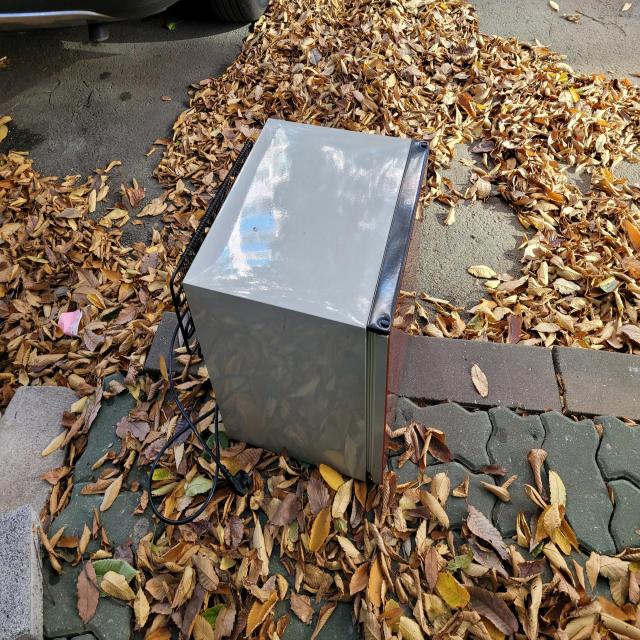refrigerator: (170, 117, 430, 486)
